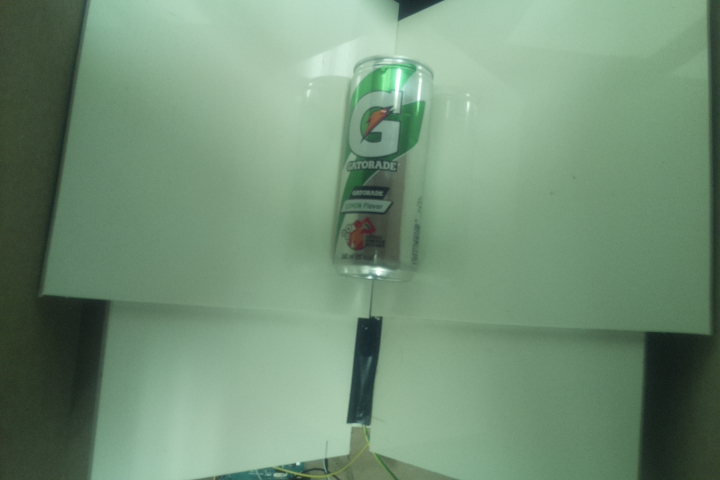can: (332, 54, 437, 286)
